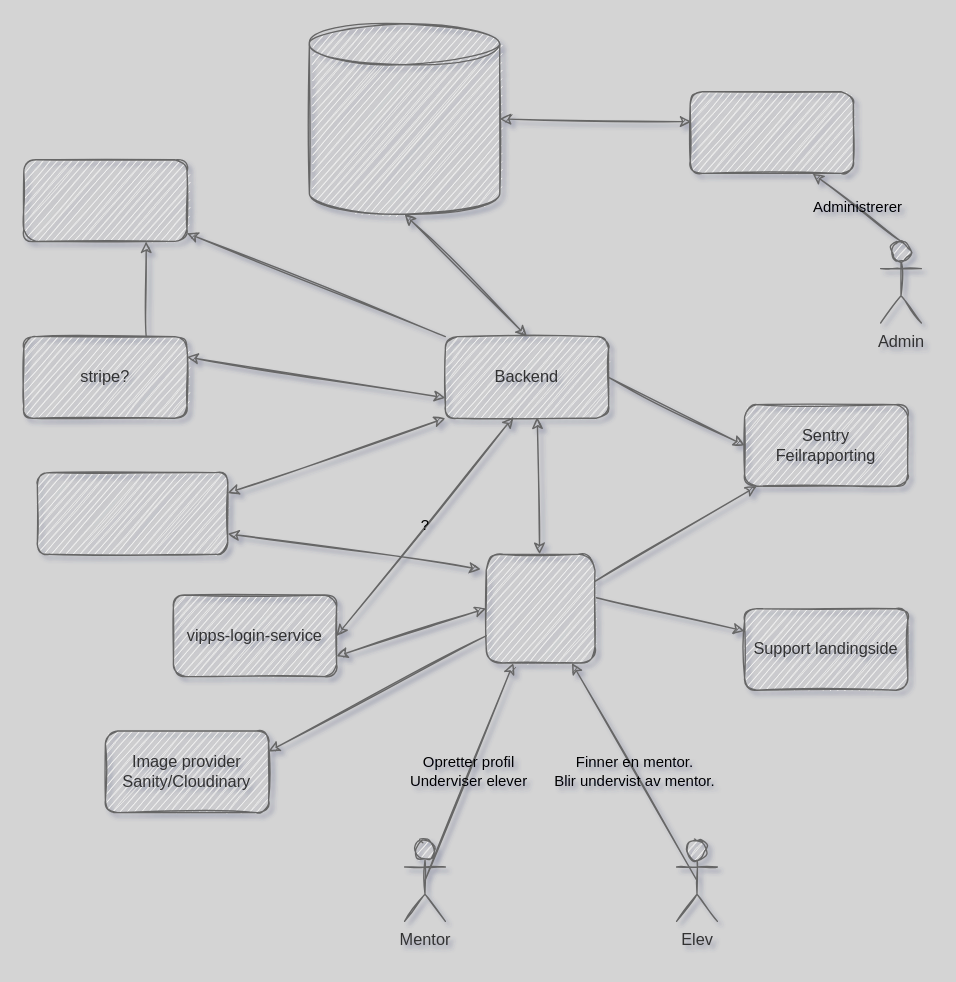
The diagram is 956 pixels wide and 982 high, and some of its shapes have lost their labels. Here are the shapes that lost their labels. From the top down, the centre of each, then its label:
(x=404, y=118): Database
(x=771, y=131): Admin dashboard Retool
(x=104, y=199): Regnskapsystem
(x=132, y=512): Videosamtale-service
(x=540, y=608): APP
